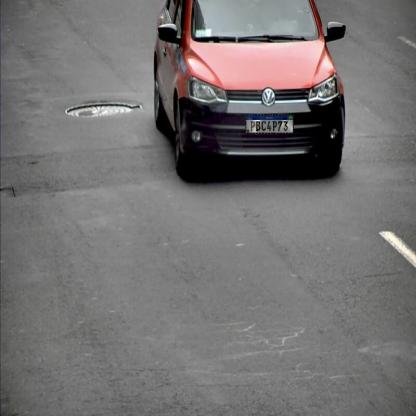PlacaM: (245, 114, 294, 134)
